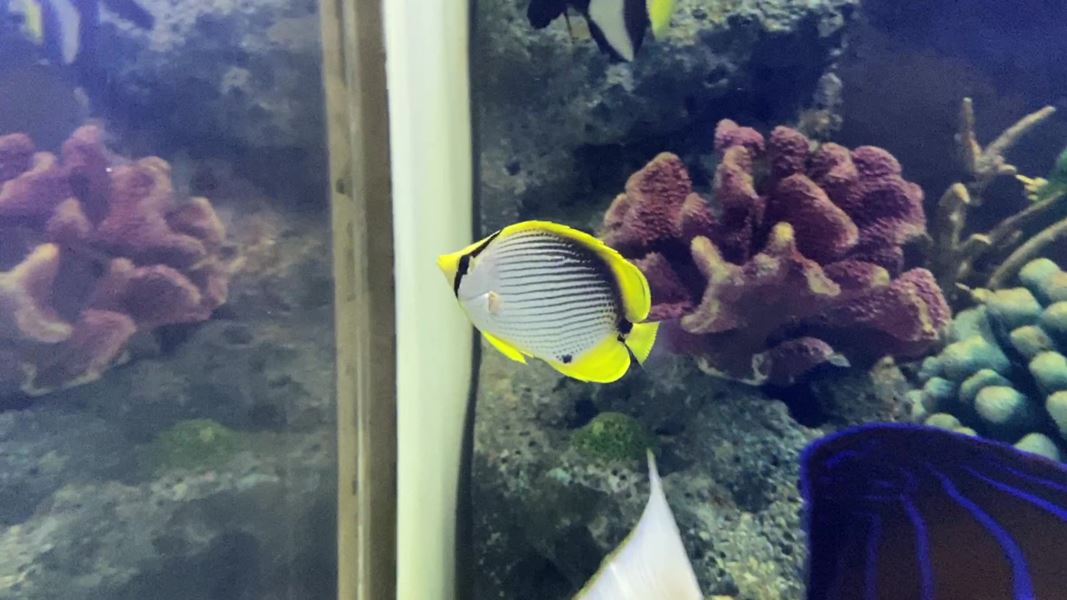Black-backed butterflyfish: (428, 212, 693, 396)
